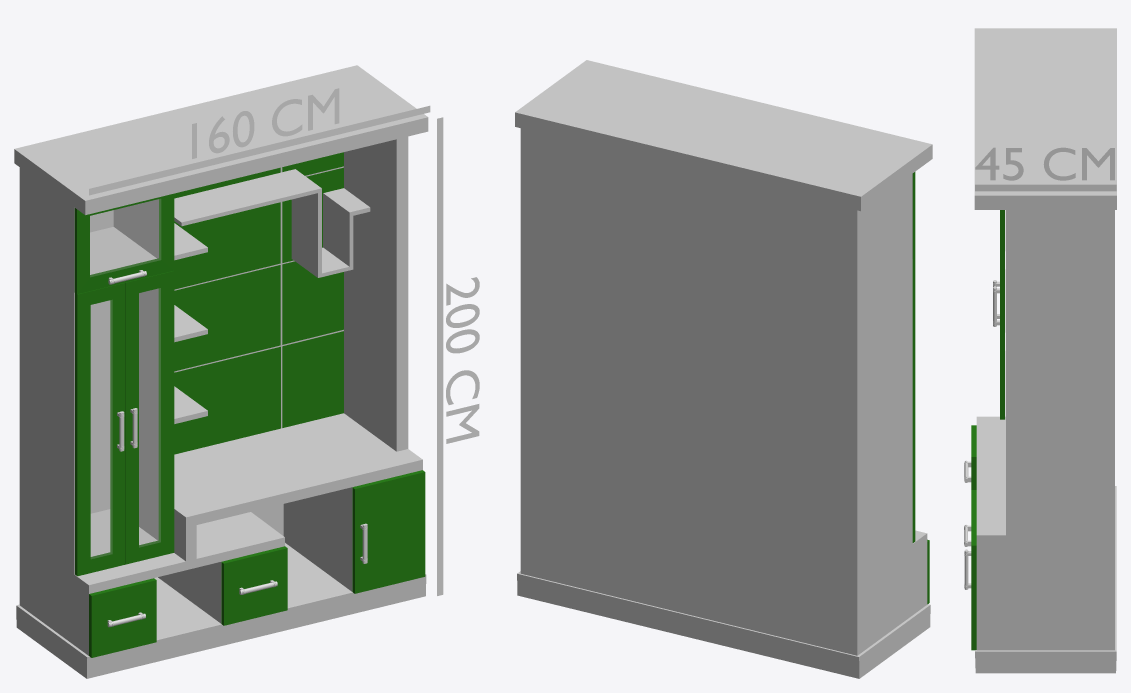
Rendered from lemari_hijau.glb.
3 renders of one model, left to right at view 1: azimuth 30°, elevation 25°; view 2: azimuth 150°, elevation 25°; view 3: azimuth 270°, elevation 25°, orthographic.
Visible parts, largest first — view 1: Cube, Plane, Plane.001, Text, Text.001, Cube.001; view 2: Cube; view 3: Cube, Text.002, Plane.002, Cube.001.
Boxes of the visible parts, x1,y1,x2,y2 form: Cube: [14, 65, 428, 678]; Plane: [437, 117, 443, 595]; Plane.001: [89, 105, 430, 195]; Text: [446, 277, 479, 443]; Text.001: [192, 88, 339, 158]; Cube.001: [107, 270, 367, 627]; Cube: [515, 60, 932, 678]; Cube: [971, 28, 1116, 673]; Text.002: [975, 147, 1114, 180]; Plane.002: [975, 184, 1116, 191]; Cube.001: [964, 280, 999, 589].
Bounding box in the file's own units: 2.87 × 3.73 × 0.9697.
